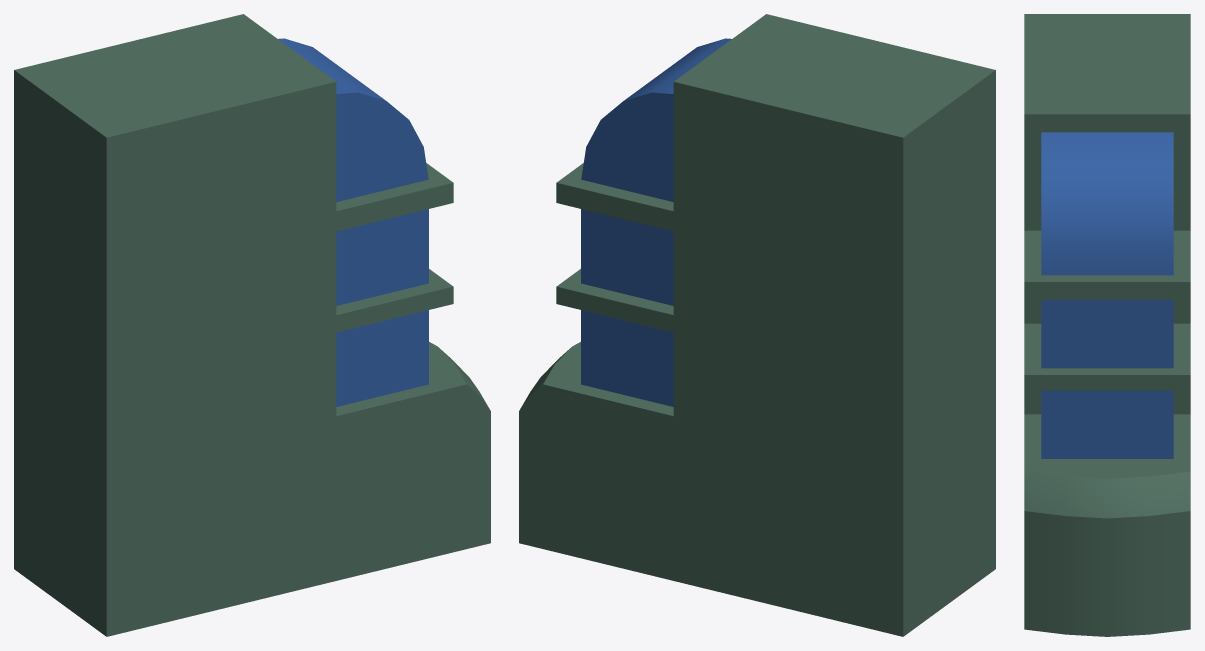
Rendered from sensin_tatemono1.fbx.
3 renders of one model, left to right at view 1: azimuth 30°, elevation 25°; view 2: azimuth 150°, elevation 25°; view 3: azimuth 270°, elevation 25°, orthographic. The views are drawn at different scales.
Visible parts, largest first — view 1: pasted__pCube11, pasted__pCylinder3, pasted__pCube5, pasted__pCube7; view 2: pasted__pCube11, pasted__pCylinder3, pasted__pCube5, pasted__pCube7; view 3: pasted__pCube11, pasted__pCylinder3, pasted__pCube5, pasted__pCube7.
Part boxes in pixels (x1=…): pasted__pCube11: x1=14, y1=14, x2=490, y2=636; pasted__pCylinder3: x1=278, y1=38, x2=428, y2=201; pasted__pCube5: x1=336, y1=209, x2=428, y2=305; pasted__pCube7: x1=336, y1=310, x2=428, y2=406; pasted__pCube11: x1=519, y1=14, x2=995, y2=636; pasted__pCylinder3: x1=581, y1=38, x2=731, y2=201; pasted__pCube5: x1=581, y1=209, x2=673, y2=305; pasted__pCube7: x1=581, y1=310, x2=673, y2=406; pasted__pCube11: x1=1024, y1=14, x2=1190, y2=636; pasted__pCylinder3: x1=1041, y1=132, x2=1173, y2=275; pasted__pCube5: x1=1041, y1=300, x2=1173, y2=368; pasted__pCube7: x1=1041, y1=390, x2=1173, y2=458.
Size of the model in its own units: 1489 by 1771 by 596.
